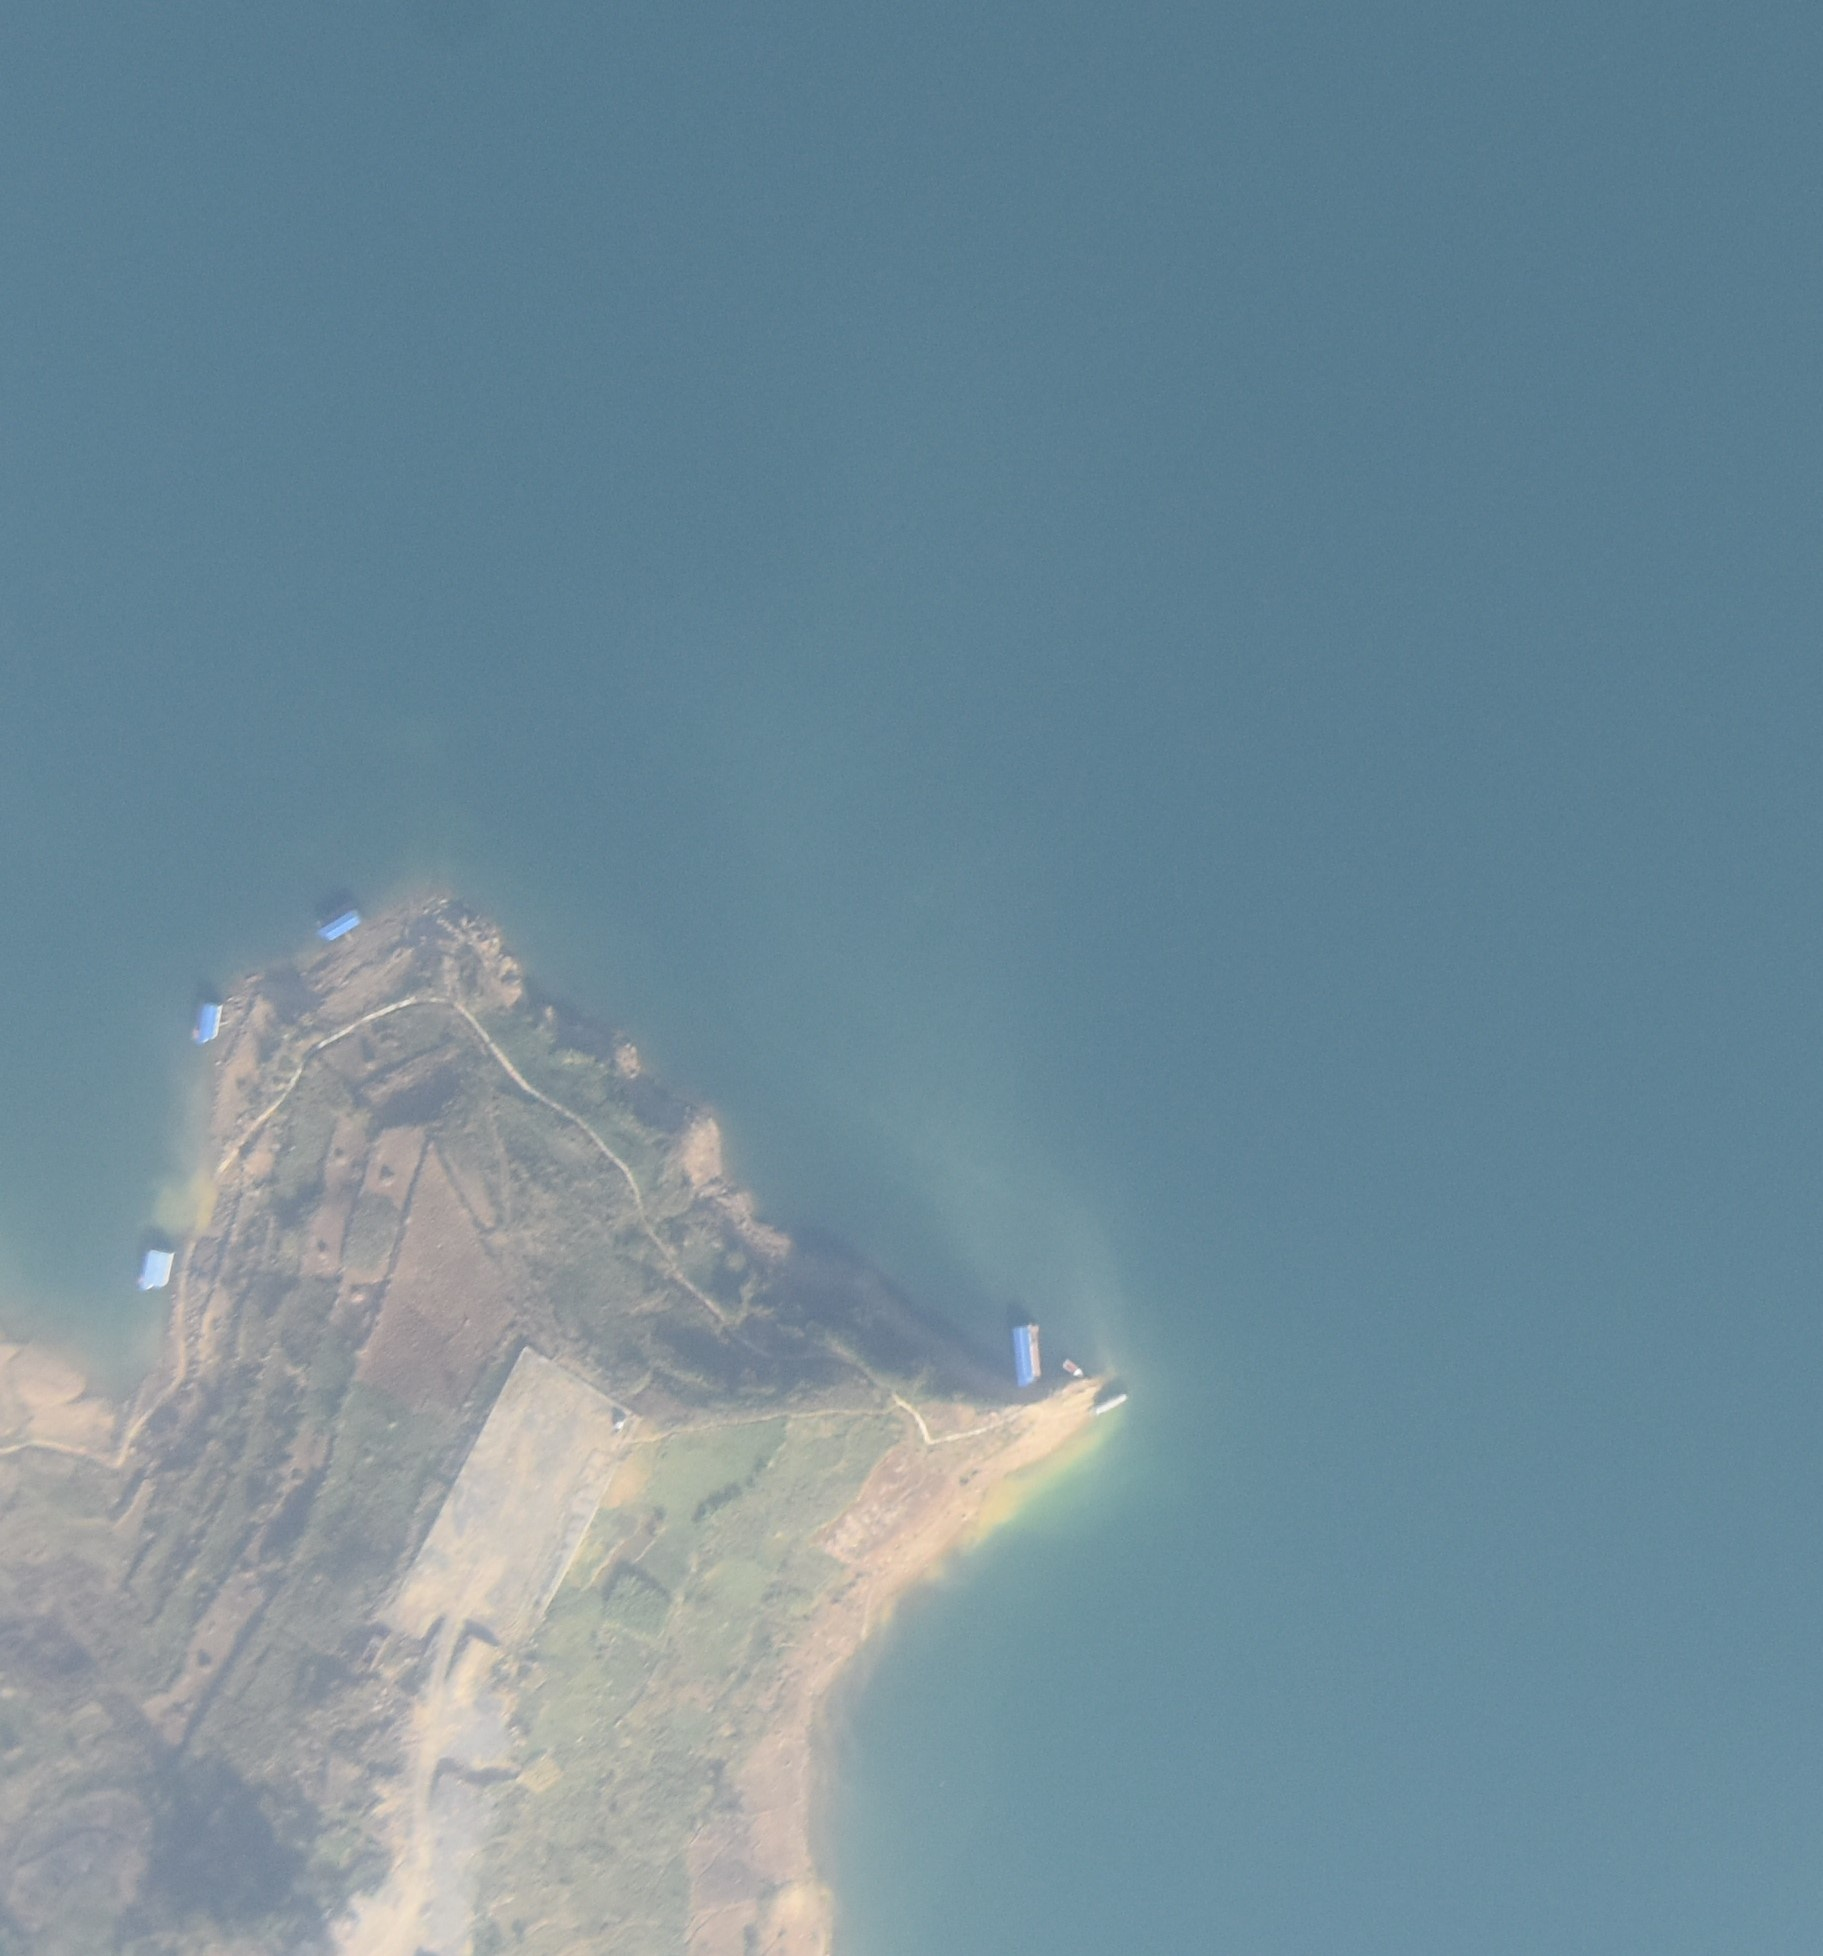prefabricated-house: (1014, 1320, 1043, 1394), (314, 910, 364, 940), (193, 1001, 218, 1048), (142, 1252, 171, 1290)
ship: (1060, 1360, 1081, 1375)
